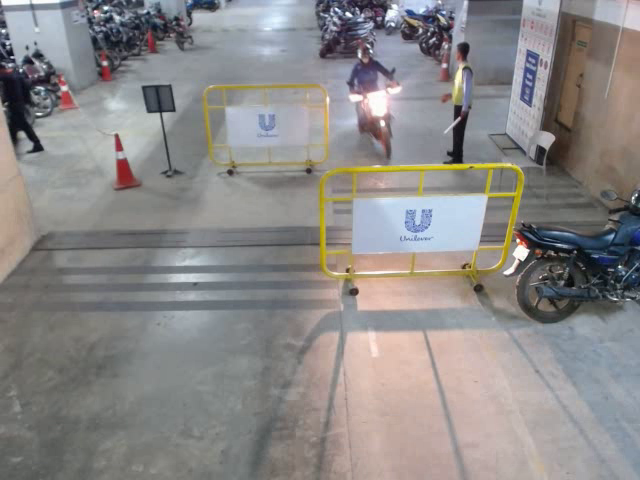with_helmet: (356, 44, 375, 67)
